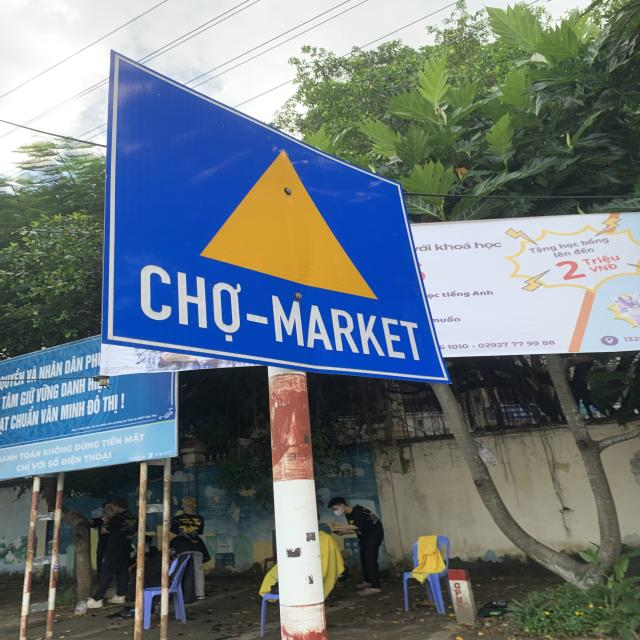Cho_Quay_Xe: (103, 86, 440, 380)
